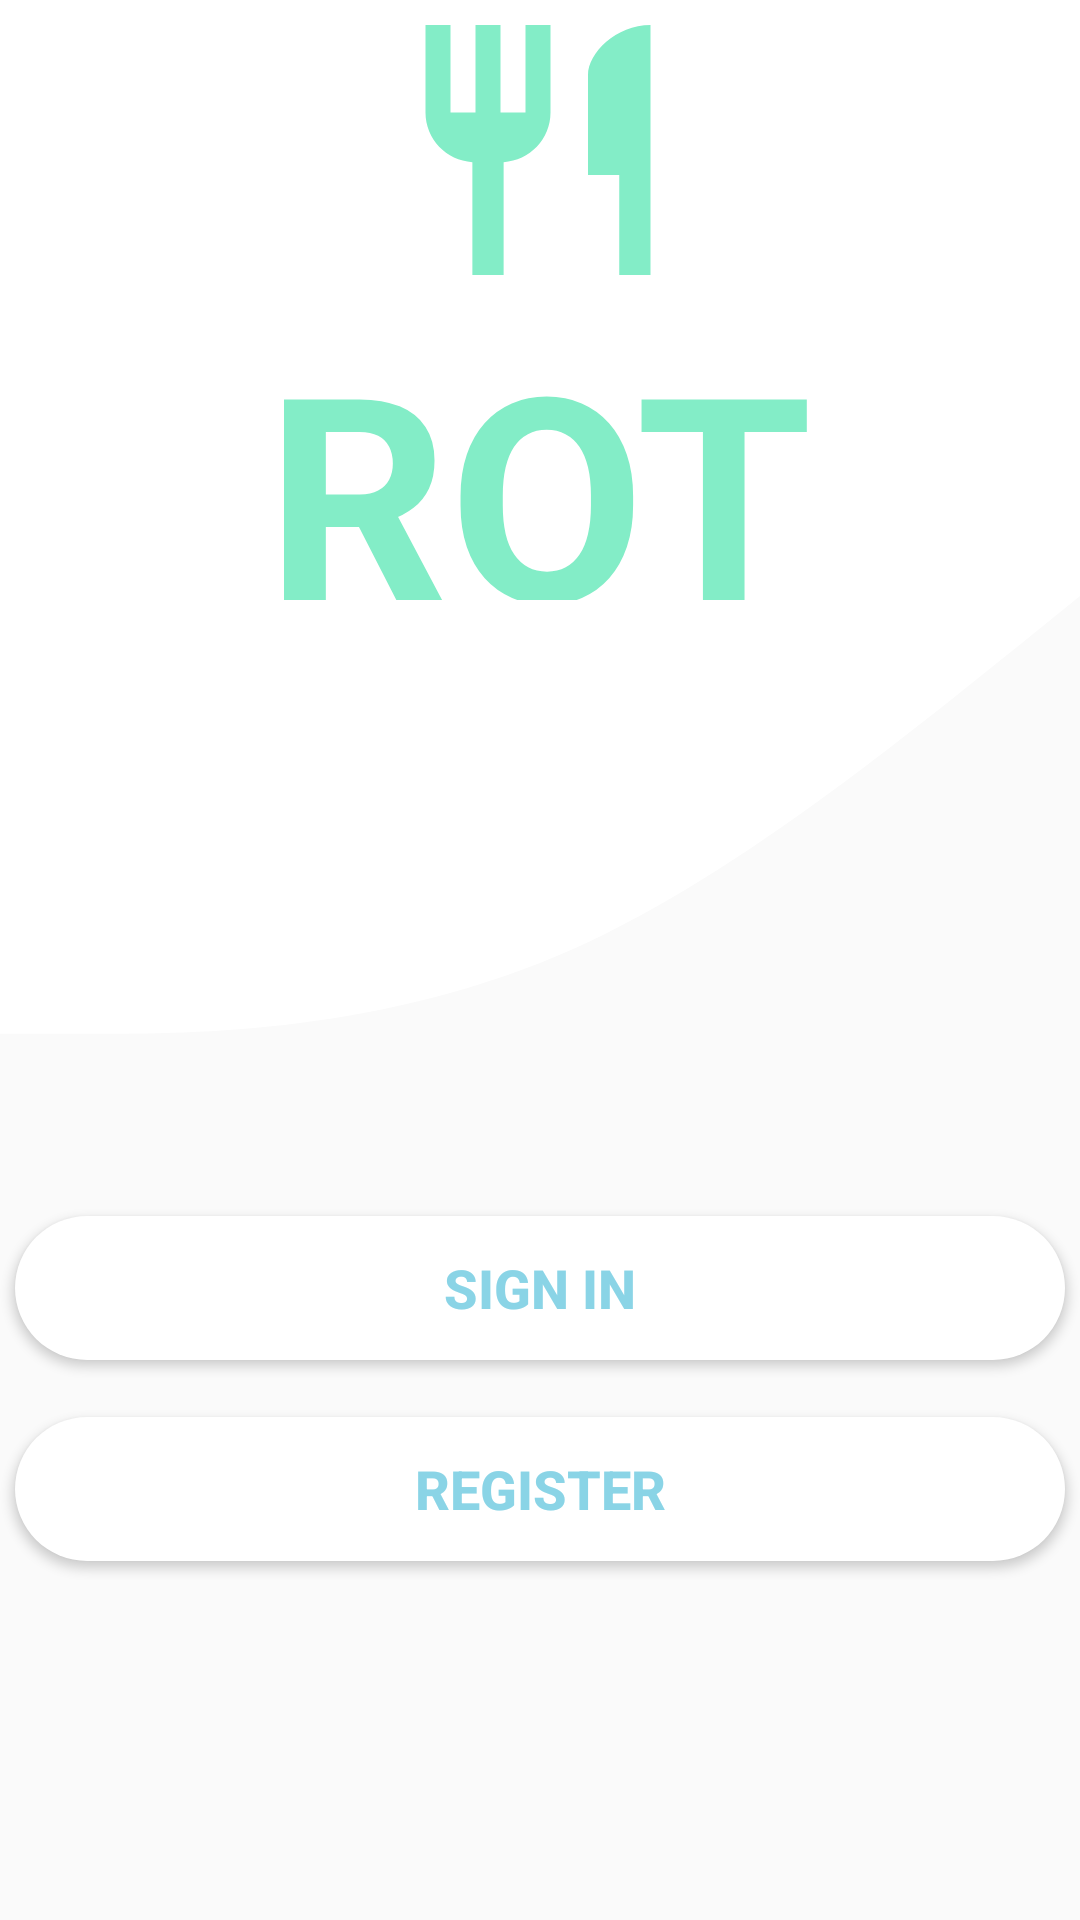

Icon click points for this 1080px x 1920px phone screenshot, format (x=x, y=y):
restaurant: (x=538, y=150)
